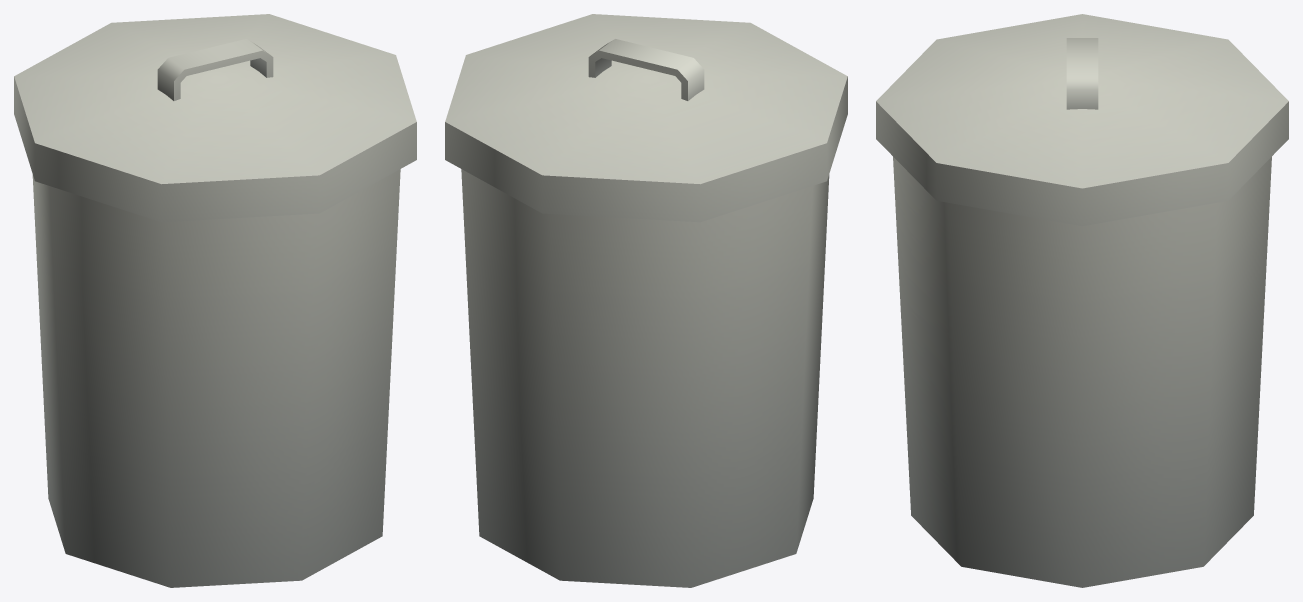
File: Garbage_Can_01.fbx
3 views of the same model, side by side, from view 1: azimuth 30°, elevation 25°; view 2: azimuth 150°, elevation 25°; view 3: azimuth 270°, elevation 25° (orthographic).
Visible parts, largest first — view 1: Garbage_Can_01_Can, Garbage_Can_01_Lid; view 2: Garbage_Can_01_Can, Garbage_Can_01_Lid; view 3: Garbage_Can_01_Can, Garbage_Can_01_Lid.
Boxes of the visible parts, box(x1,y1,x2,y2) form: Garbage_Can_01_Can: box(32, 169, 400, 587); Garbage_Can_01_Lid: box(14, 14, 416, 222); Garbage_Can_01_Can: box(461, 169, 829, 587); Garbage_Can_01_Lid: box(445, 14, 847, 222); Garbage_Can_01_Can: box(893, 157, 1271, 587); Garbage_Can_01_Lid: box(876, 14, 1288, 226).
Bounding box in the file's own units: 99.4 × 122 × 99.4.
